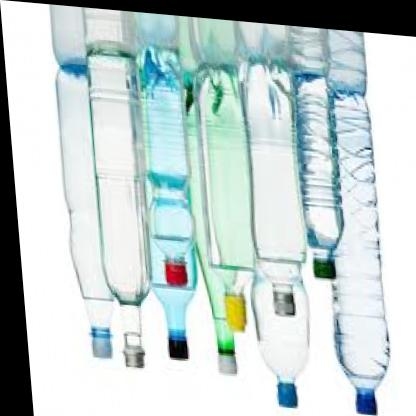Plastic: (128, 44, 206, 394), (318, 78, 396, 416), (184, 40, 262, 336), (232, 48, 316, 312), (40, 54, 104, 366), (288, 52, 348, 278), (242, 285, 312, 407), (194, 259, 244, 394)
